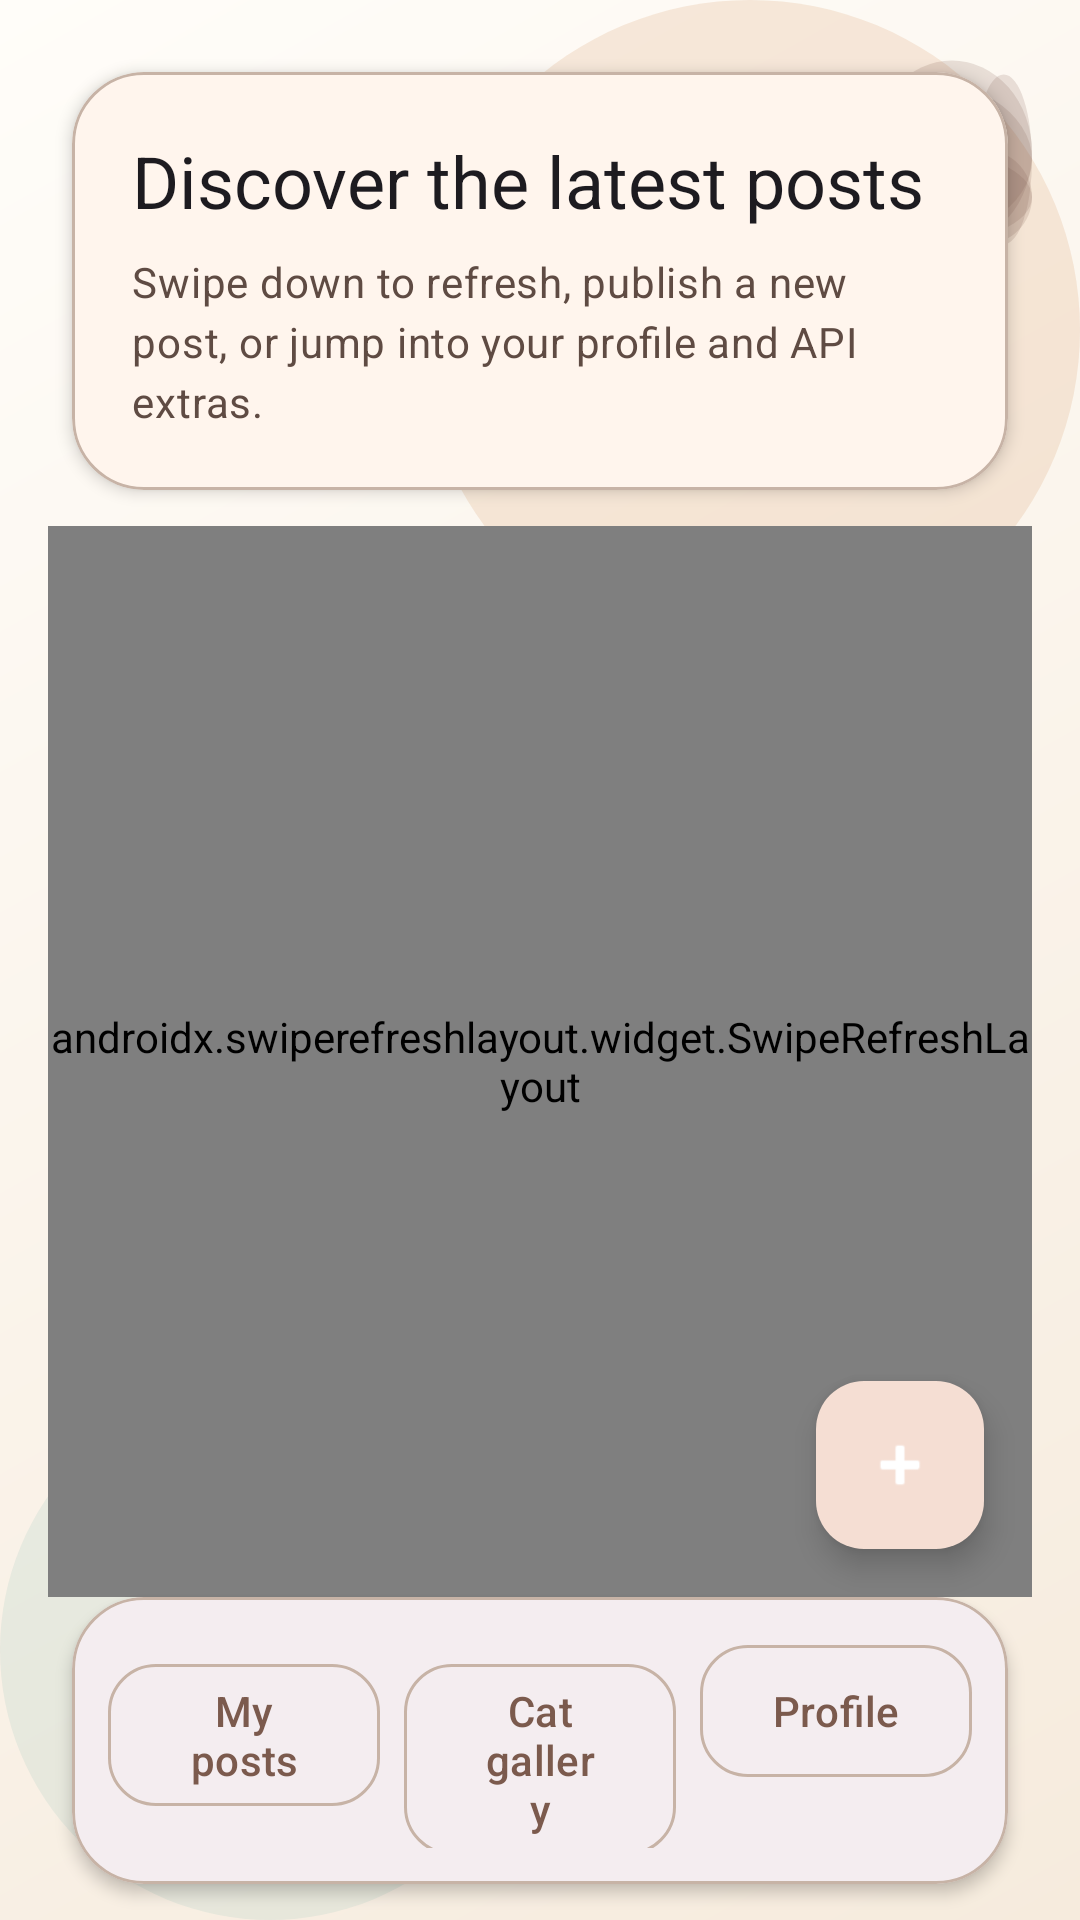

Icons on this 1080w x 1920h Android screen, each with its box as (x1, y1, x2, y2):
Create a new post: (816, 1381, 984, 1549)
